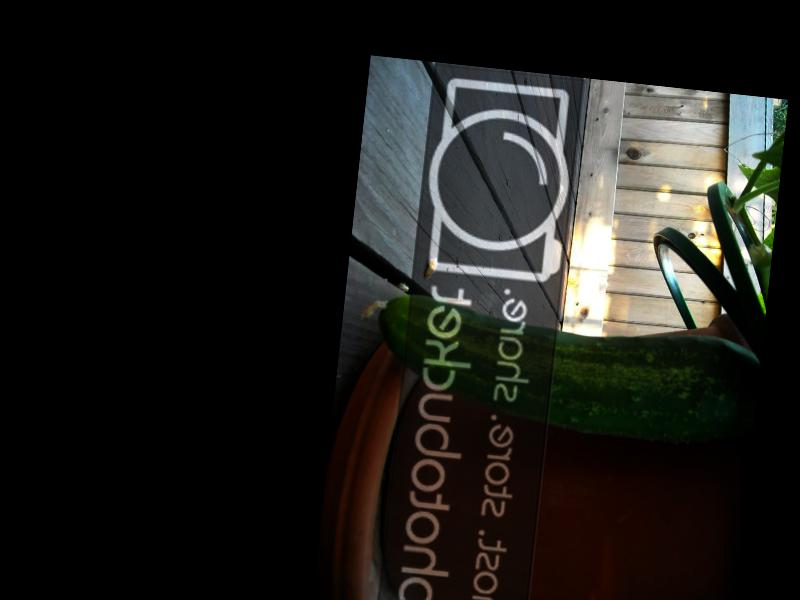Cucumber: (352, 289, 759, 450)
